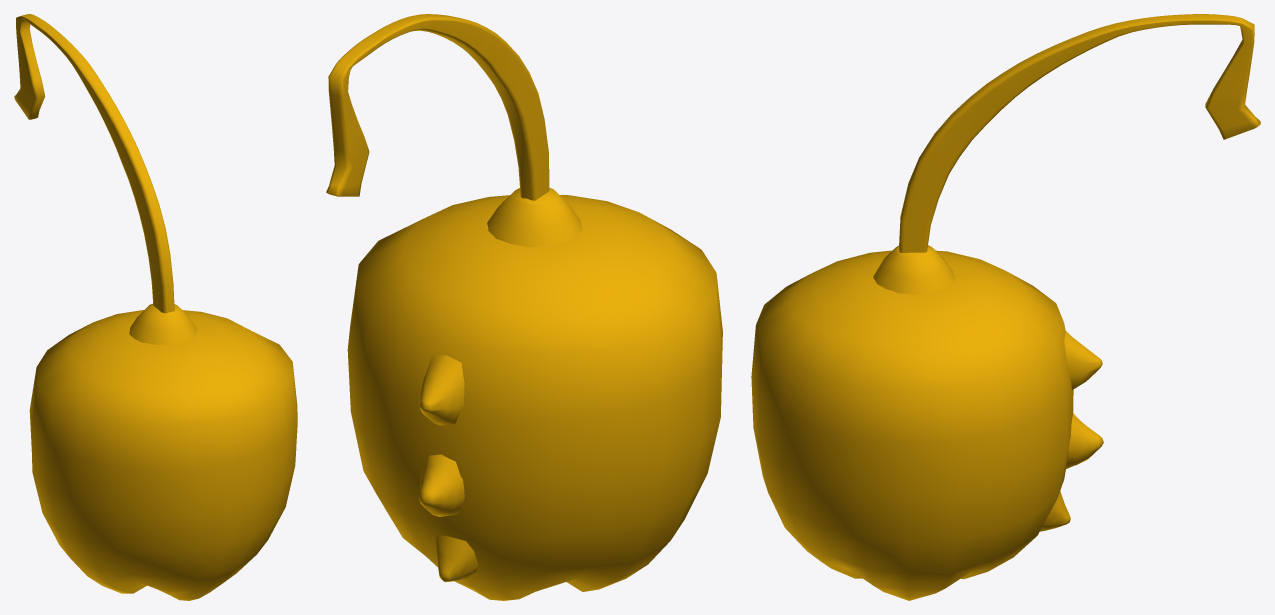
Rendered from Habanero low prueba.fbx.
3 renders of one model, left to right at view 1: azimuth 30°, elevation 25°; view 2: azimuth 150°, elevation 25°; view 3: azimuth 270°, elevation 25°, orthographic. The views are drawn at different scales.
Visible parts, largest first — view 1: Low_cuerpo, Low_cola, Low_tapa; view 2: Low_cuerpo, Low_cola, Low_espalda, Low_tapa; view 3: Low_cuerpo, Low_cola, Low_espalda, Low_tapa.
Part boxes in pixels (box(x1,y1,x2,y2)): Low_cuerpo: box(29, 310, 297, 600); Low_cola: box(14, 14, 174, 313); Low_tapa: box(129, 304, 197, 345); Low_cuerpo: box(347, 195, 722, 600); Low_cola: box(326, 14, 549, 200); Low_espalda: box(418, 355, 478, 582); Low_tapa: box(487, 188, 582, 247); Low_cuerpo: box(751, 250, 1073, 600); Low_cola: box(899, 14, 1260, 252); Low_espalda: box(1040, 331, 1103, 531); Low_tapa: box(873, 245, 955, 294).
Size of the model in its own units: 49.47 by 94.42 by 77.69.
